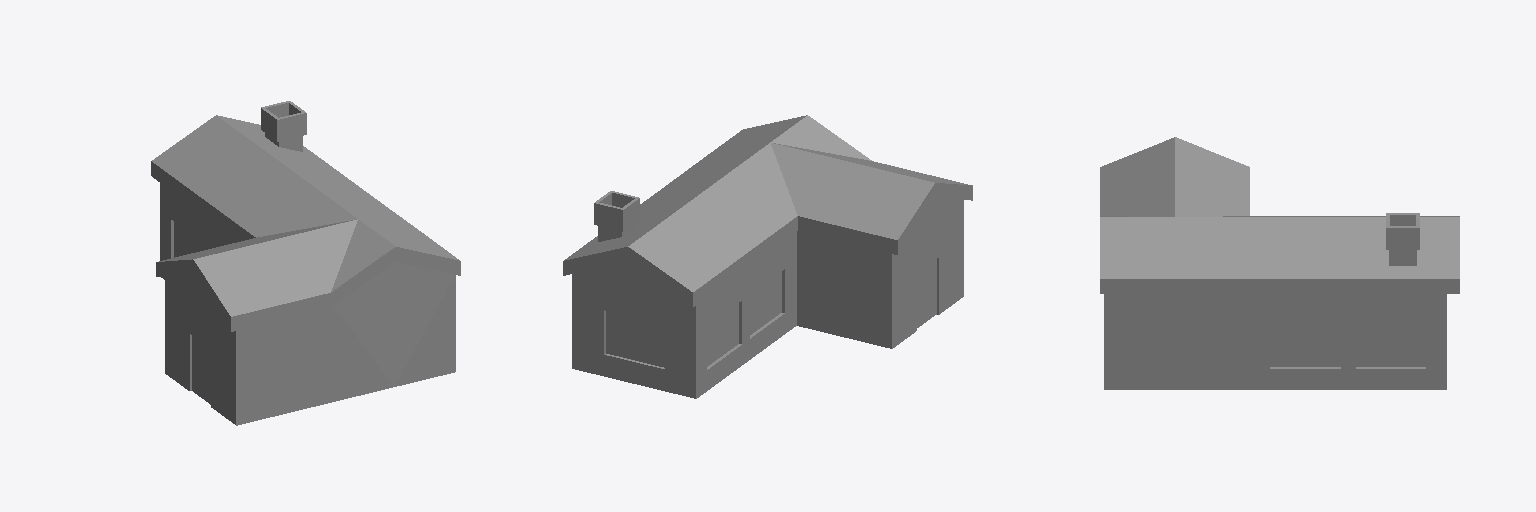
Rendered from MediumHouse.obj.
3 renders of one model, left to right at view 1: azimuth 30°, elevation 25°; view 2: azimuth 150°, elevation 25°; view 3: azimuth 270°, elevation 25°, orthographic.
Visible parts, largest first — view 1: Cube.005; view 2: Cube.005; view 3: Cube.005.
Part boxes in pixels (x1,y1,x2,y2): Cube.005: (151,101,460,425); Cube.005: (563,115,972,398); Cube.005: (1100,137,1459,389).
Size of the model in its own units: 3.7 by 2.43 by 5.01.